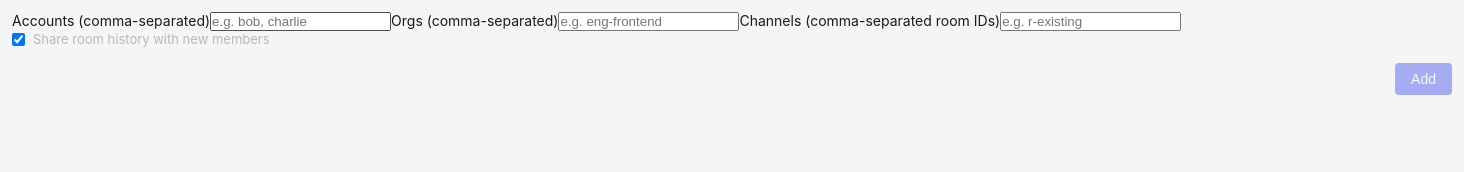
Test: AddMembersForm › clears inputs and shows Accepted on success
Type "bob" into the field labelled "Accounts (comma-separated)" at (301, 22), box [210,12,391,31]
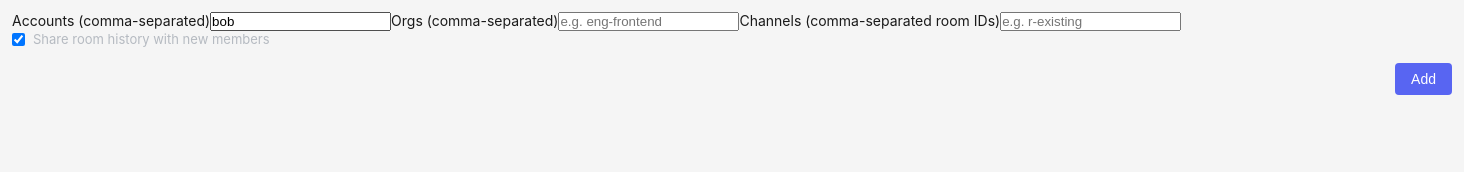
Click the button "Add" at (1424, 79), box [1395,63,1452,95]
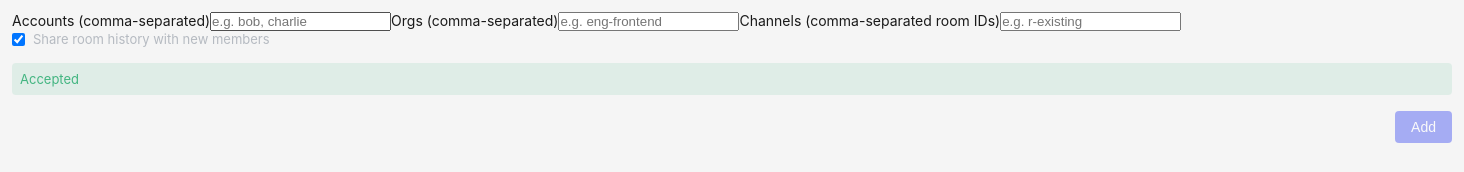
Expected: the text "Accepted" is shown, [12,63,1452,95]
Expected: the field labelled "Accounts (comma-separated)" is empty, [210,12,391,31]
